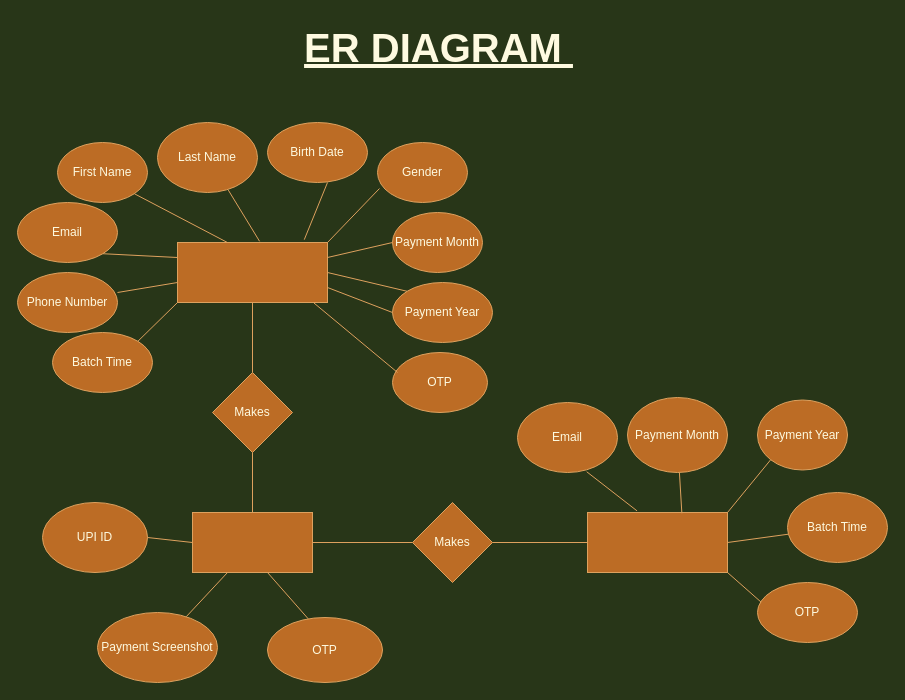
The diagram is 905 pixels wide and 700 high, and some of its shapes have lost their labels. Each missing label, with the box of its shape:
Already Registered User: (586, 512, 728, 572)
Newly registered user: (176, 242, 328, 302)
Payment: (192, 512, 312, 572)
